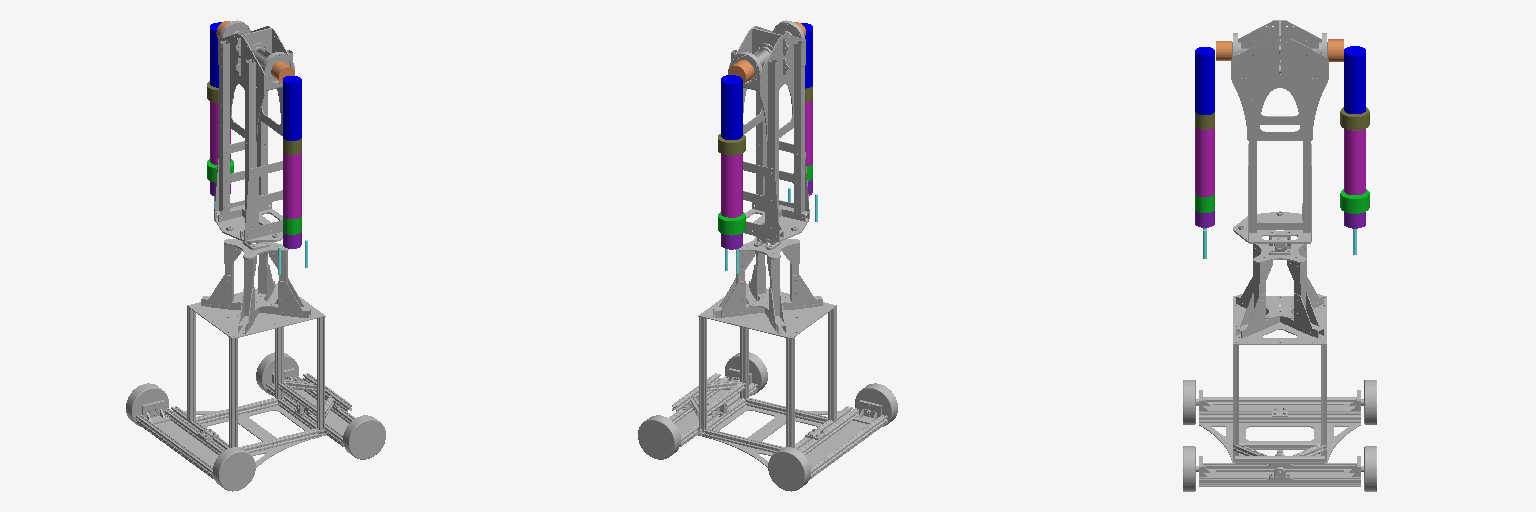
URDF robot description (neurobot):
<robot
  name="neurobot">
  <link 
    name="base_footprint">
    <visual>
    <origin rpy="0 0 0" xyz="0 0 0"/>
    <geometry>
       <box size="0.05 0.05 0.001"/>
    </geometry>
    <material name="TransparentGreen"/>
    </visual>
  </link>
  <link
    name="base_leg">
    <inertial>
      <origin
        xyz="0 0 0.0344645056443236"
        rpy="0 0 0" />
      <mass
        value="4.96180110119092" />
      <inertia
        ixx="0.260181029472697"
        ixy="-1.8355788022317E-06"
        ixz="-0.00155137956745712"
        iyy="0.263728282272559"
        iyz="1.00993985627843E-07"
        izz="0.488283544882969" />
    </inertial>
    <visual>
      <origin
        xyz="0 0 0"
        rpy="0 0 0" />
      <geometry>
        <mesh
          filename="package://neuro_model/meshes/base_leg.stl" />
      </geometry>
      <material
        name="">
        <color
          rgba="0.752941176470588 0.752941176470588 0.752941176470588 1" />
      </material>
    </visual>
    <collision>
      <origin
        xyz="0 0 0"
        rpy="0 0 0" />
      <geometry>
        <mesh
          filename="package://neuro_model/meshes/base_leg.stl" />
      </geometry>
    </collision>
  </link>

  <joint name="joint_footprint" type="fixed">
    <origin rpy="0 0 0" xyz="0 0 0"/>
    <parent link="base_footprint"/>
    <child link="base_leg"/>
  </joint>


  <link
    name="base_link">
    <inertial>
      <origin
        xyz="0 0 0.497022585106364"
        rpy="0 0 0" />
      <mass
        value="2.64772097817827" />
      <inertia
        ixx="0.355578054616091"
        ixy="0.00054044346883383"
        ixz="0.00826972267071127"
        iyy="0.354512666156879"
        iyz="-0.00128012471195156"
        izz="0.0346040156500564" />
    </inertial>
    <visual>
      <origin
        xyz="0 0 0"
        rpy="0 0 0" />
      <geometry>
        <mesh
          filename="package://neuro_model/meshes/base_link.stl" />
      </geometry>
      <material
        name="">
        <color
          rgba="0.752941176470588 0.752941176470588 0.752941176470588 1" />
      </material>
    </visual>
    <collision>
      <origin
        xyz="0 0 0"
        rpy="0 0 0" />
      <geometry>
        <mesh
          filename="package://neuro_model/meshes/base_link.stl" />
      </geometry>
    </collision>
  </link>
  <joint
    name="base_link_joint"
    type="fixed">
    <origin
      xyz="0 0 0.423"
      rpy="0 0 0" />
    <parent
      link="base_leg" />
    <child
      link="base_link" />
    <axis
      xyz="0 0 0" />
  </joint>

  <link
    name="left_arm_link0">
  </link>
  <joint
    name="left_arm_joint0"
    type="fixed">
    <origin
      xyz="0 0.146 0.917"
      rpy="-1.5708 0 0" />
    <parent
      link="base_link" />
    <child
      link="left_arm_link0" />
    <axis
      xyz="0 0 0" />
  </joint>
  <link
    name="left_arm_link1">
    <inertial>
      <origin
        xyz="0 0 0.025"
        rpy="0 0 0" />
      <mass
        value="0.139895412046326" />
      <inertia
        ixx="0.000291527799787079"
        ixy="7.02048677679412E-07"
        ixz="-1.54733263205051E-05"
        iyy="0.000240969210302021"
        iyz="-2.14818780078269E-07"
        izz="0.000151629908718559" />
    </inertial>
    <visual>
      <origin
        xyz="0 0 0.025"
        rpy="0 0 0" />
      <geometry>
        <cylinder length="0.05" radius="0.035"/>
      </geometry>
      <material
        name="">
        <color
          rgba="0.9 0.6 0.4 1" />
      </material>
    </visual>
    <collision>
      <origin
        xyz="0 0 0.025"
        rpy="0 0 0" />
      <geometry>
        <cylinder length="0.05" radius="0.035"/>
      </geometry>
    </collision>
  </link>
  <joint
    name="left_arm_joint1"
    type="revolute">
    <origin
      xyz="0 0 0.001"
      rpy="0 0 0" />
    <parent
      link="left_arm_link0" />
    <child
      link="left_arm_link1" />
    <axis
      xyz="0 0 -1" />
    <limit
      lower="-1.57"
      upper="1.57"
      effort="2"
      velocity="1" />
  </joint>
  <link
    name="left_arm_link2">
    <inertial>
      <origin
        xyz="0.10 0 0"
        rpy="0 0 0" />
      <mass
        value="0.222706771538381" />
      <inertia
        ixx="0.000221293565894878"
        ixy="9.64715999128791E-08"
        ixz="1.17177262431235E-05"
        iyy="0.00108680182339941"
        iyz="7.3745697887011E-10"
        izz="0.00105620684573982" />
    </inertial>
    <visual>
      <origin
        xyz="0.10 0 0"
        rpy="0 1.5708 0" />
      <geometry>
        <cylinder length="0.20" radius="0.035"/>
      </geometry>
      <material
        name="">
        <color
          rgba="0 0 1 1" />
      </material>
    </visual>
    <collision>
      <origin
        xyz="0.10 0 0"
        rpy="0 1.5708 0" />
      <geometry>
        <cylinder length="0.20" radius="0.035"/>
      </geometry>
    </collision>
  </link>
  <joint
    name="left_arm_joint2"
    type="revolute">
    <origin
      xyz="0 0 0.084"
      rpy="1.5708 0 1.5708" />
    <parent
      link="left_arm_link1" />
    <child
      link="left_arm_link2" />
    <axis
      xyz="0 0 1" />
    <limit
      lower="0"
      upper="1.57"
      effort="2"
      velocity="1" />
  </joint>
  <link
    name="left_arm_link3">
    <inertial>
      <origin
        xyz="0 0 0.0225"
        rpy="0 0 0" />
      <mass
        value="0.078971511055653" />
      <inertia
        ixx="7.19666232277633E-05"
        ixy="-2.29834747206398E-21"
        ixz="-1.68863370887188E-05"
        iyy="0.000116283270534729"
        iyz="5.15631306641055E-20"
        izz="0.000104168336512131" />
    </inertial>
    <visual>
      <origin
        xyz="0 0 0.0225"
        rpy="0 0 0" />
      <geometry>
        <cylinder length="0.045" radius="0.045"/>
      </geometry>
      <material
        name="">
        <color
          rgba="0.5 0.5 0.3 1" />
      </material>
    </visual>
    <collision>
      <origin
        xyz="0 0 0.0225"
        rpy="0 1 0" />
      <geometry>
        <cylinder length="0.045" radius="0.045"/>
      </geometry>
    </collision>
  </link>
  <joint
    name="left_arm_joint3"
    type="revolute">
    <origin
      xyz="0.205 0 0"
      rpy="-1.5708 0 -1.5708" />
    <parent
      link="left_arm_link2" />
    <child
      link="left_arm_link3" />
    <axis
      xyz="0 0 -1" />
    <limit
      lower="-2.2"
      upper="2.2"
      effort="2"
      velocity="1" />
  </joint>
  <link
    name="left_arm_link4">
    <inertial>
      <origin
        xyz="0.11 0 0"
        rpy="0 1.5708 0"/>
      <mass
        value="0.163592437075005" />
      <inertia
        ixx="9.18715474899927E-05"
        ixy="1.14360963815123E-05"
        ixz="-1.44049786151869E-05"
        iyy="0.000940484151135754"
        iyz="1.90547978307357E-07"
        izz="0.000935522761640683" />
    </inertial>
    <visual>
      <origin
        xyz="0.11 0 0"
        rpy="0 1.5708 0"/>
      <geometry>
        <cylinder length="0.22" radius="0.035"/>
      </geometry>
      <material
        name="">
        <color
          rgba="0.8 0.2 0.8 1" />
      </material>
    </visual>
    <collision>
      <origin
        xyz="0.11 0 0 "
        rpy="0 1.5708 0" />
      <geometry>
        <cylinder length="0.22" radius="0.035"/>
      </geometry>
    </collision>
  </link>
  <joint
    name="left_arm_joint4"
    type="revolute">
    <origin
      xyz="0 0 0.05"
      rpy="1.5708 -1.5708 1.5708"/>
    <parent
      link="left_arm_link3" />
    <child
      link="left_arm_link4" />
    <axis
      xyz="0 0 1" />
    <limit
      lower="-1.57"
      upper="1.6"
      effort="2"
      velocity="1" />
  </joint>
  <link
    name="left_arm_link5">
    <inertial>
      <origin
        xyz="0 0 0.025"
        rpy="0 0 0"/>
      <mass
        value="0.0975990294014391" />
      <inertia
        ixx="9.17613388444776E-05"
        ixy="1.93938108659678E-06"
        ixz="-2.18069280623664E-05"
        iyy="0.000145599253848535"
        iyz="3.27545465049375E-06"
        izz="0.000109308596470807" />
    </inertial>
    <visual>
      <origin
        xyz="0 0 0.025"
        rpy="0 0 0"/>
      <geometry>
        <cylinder length="0.05" radius="0.045"/>
      </geometry>
      <material
        name="">
        <color
          rgba="0.1 0.8 0.2 1" />
      </material>
    </visual>
    <collision>
      <origin
        xyz="0 0 0.025"
        rpy="0 0 0" />
      <geometry>
        <cylinder length="0.05" radius="0.045"/>
      </geometry>
    </collision>
  </link>
  <joint
    name="left_arm_joint5"
    type="revolute">
    <origin
      xyz="0.228 0 0"
      rpy="3.14 -1.5708 0"/>
    <parent
      link="left_arm_link4" />
    <child
      link="left_arm_link5" />
    <axis
      xyz="0 0 -1" />
    <limit
      lower="-2.2"
      upper="2.2"
      effort="2"
      velocity="1" />
  </joint>
  <link
    name="left_arm_link6">
    <inertial>
      <origin
        xyz="0.025 0 0"
        rpy="0 0 0" />
      <mass
        value="0.0342933650278285" />
      <inertia
        ixx="2.81251487192025E-05"
        ixy="-9.52330011495129E-08"
        ixz="8.00630003676371E-09"
        iyy="2.12668689963334E-05"
        iyz="5.76691167452361E-07"
        izz="2.57654425067355E-05" />
    </inertial>
    <visual>
      <origin
        xyz="0.025 0 0"
        rpy="0 1.5708 0" />
      <geometry>
        <cylinder length="0.05" radius="0.035"/>
      </geometry>
      <material
        name="">
        <color
          rgba="0.6 0.2 0.8 1" />
      </material>
    </visual>
    <collision>
      <origin
        xyz="0.025 0 0"
        rpy="0 1.5708 0" />
      <geometry>
        <cylinder length="0.05" radius="0.035"/>
      </geometry>
    </collision>
  </link>
  <joint
    name="left_arm_joint6"
    type="revolute">
    <origin
      xyz="0 0 0.055"
      rpy="1.5708 -1.5708 0" />
    <parent
      link="left_arm_link5" />
    <child
      link="left_arm_link6" />
    <axis
      xyz="0 0 -1" />
    <limit
      lower="-1.57"
      upper="1.57"
      effort="2"
      velocity="1" />
  </joint>
  <link
    name="left_gripper_frame">
  </link>
  <joint
    name="left_arm_joint7"
    type="fixed">
    <origin
      xyz="0.13 0 0"
      rpy="1.57 0 0" />
    <parent
      link="left_arm_link6" />
    <child
      link="left_gripper_frame" />
  </joint>
  <link
    name="left_finger_l">
    <inertial>
      <origin
        xyz="0 0 0.0475"
        rpy="0 0 1.5708" />
      <mass
        value="0.0004954649646829" />
      <inertia
        ixx="1.28718097526934E-07"
        ixy="-4.95287937680829E-22"
        ixz="4.25264237478257E-23"
        iyy="1.27301609789733E-07"
        iyz="6.66607407315439E-23"
        izz="4.01590299797697E-09" />
    </inertial>
    <visual>
      <origin
        xyz="0 0 0.0475"
        rpy="0 0 1.5708" />
      <geometry>
        <cylinder length="0.095" radius="0.005" />
      </geometry>
      <material
        name="">
        <color
          rgba="0.5 1 1 1" />
      </material>
    </visual>
    <collision>
      <origin
        xyz="0 0 0.0475"
        rpy="0 0 1.5708" />
      <geometry>
        <cylinder length="0.0095" radius="0.005" />
      </geometry>
    </collision>
  </link>
  <joint
    name="left_joint_gripper_l"
    type="fixed">
    <origin
      xyz="0.05 0 -0.02"
      rpy="0 1.5708 0" />
    <parent
      link="left_arm_link6" />
    <child
      link="left_finger_l" />
    <axis
      xyz="0 0 0" />
  </joint>
  <link
    name="left_finger_r">
    <inertial>
      <origin
        xyz="0 0 0.0475"
        rpy="0 0 1.57" />
      <mass
        value="0.0004954649646829" />
      <inertia
        ixx="1.28718097526934E-07"
        ixy="-4.95287937680829E-22"
        ixz="4.25264237478257E-23"
        iyy="1.27301609789733E-07"
        iyz="6.66607407315439E-23"
        izz="4.01590299797697E-09" />
    </inertial>
    <visual>
      <origin
        xyz="0 0 0.0475"
        rpy="0 0 1.57" />
      <geometry>
        <cylinder length="0.095" radius="0.005" />
      </geometry>
      <material
        name="">
        <color
          rgba="0.5 1 1 1" />
      </material>
    </visual>
    <collision>
      <origin
        xyz="0 0 0.0475"
        rpy="0 0 1.57" />
      <geometry>
        <cylinder length="0.0095" radius="0.005" />
      </geometry>
    </collision>
  </link>
  <joint
    name="left_joint_gripper_r"
    type="revolute">
    <origin
      xyz="0.05 0 0.02"
      rpy="0 1.57 0" />
    <parent
      link="left_arm_link6" />
    <child
      link="left_finger_r" />
    <axis
      xyz="0 -1 0" />
    <limit
      effort="1" 
      lower="0" 
      upper="1.57" 
      velocity="1.0"/>
  </joint>
  <link
    name="right_arm_link0">
  </link>
  <joint
    name="right_arm_joint0"
    type="fixed">
    <origin
      xyz="0 -0.146 0.917"
      rpy="1.5708 0 0" />
    <parent
      link="base_link" />
    <child
      link="right_arm_link0" />
    <axis
      xyz="0 0 0" />
  </joint>

  <link
    name="right_arm_link1">
    <inertial>
      <origin
        xyz="0 0 0.025"
        rpy="0 0 0" />
      <mass
        value="0.139895412046325" />
      <inertia
        ixx="0.000291537528341602"
        ixy="-3.02611226515367E-08"
        ixz="-1.54748146614687E-05"
        iyy="0.000240959481748641"
        iyz="9.25866316314585E-09"
        izz="0.000151629908718559" />
    </inertial>
    <visual>
      <origin
        xyz="0 0 0.025"
        rpy="0 0 0" />
      <geometry>
        <cylinder length="0.05" radius="0.03"/>
      </geometry>
      <material
        name="">
        <color
          rgba="0.9 0.6 0.4 1" />
      </material>
    </visual>
    <collision>
      <origin
        xyz="0 0 0.025"
        rpy="0 0 0" />
      <geometry>
        <cylinder length="0.05" radius="0.03"/>
      </geometry>
    </collision>
  </link>
  <joint
    name="right_arm_joint1"
    type="revolute">
    <origin
      xyz="0 0 0.001"
      rpy="0 0 0" />
    <parent
      link="right_arm_link0" />
    <child
      link="right_arm_link1" />
    <axis
      xyz="0 0 1" />
    <limit
      lower="-1.57"
      upper="1.57"
      effort="2"
      velocity="1" />
  </joint>
  <link
    name="right_arm_link2">
    <inertial>
      <origin
        xyz="0.1025 0 0"
        rpy="0 1.5708 0" />
      <mass
        value="0.222706771537626" />
      <inertia
        ixx="0.000221129610017924"
        ixy="9.6453292163997E-08"
        ixz="6.23932395302156E-07"
        iyy="0.00108680182343279"
        iyz="2.01887974864766E-09"
        izz="0.00105637080165108" />
    </inertial>
    <visual>
      <origin
        xyz="0.1025 0 0"
        rpy="0 1.5708 0" />
      <geometry>
        <cylinder length="0.205" radius="0.03"/>
      </geometry>
      <material
        name="">
        <color
          rgba="0 0 1 1" />
      </material>
    </visual>
    <collision>
      <origin
        xyz="0.1025 0 0"
        rpy="0 1.5708 0" />
      <geometry>
        <cylinder length="0.205" radius="0.03"/>
      </geometry>
    </collision>
  </link>
  <joint
    name="right_arm_joint2"
    type="revolute">
    <origin
      xyz="0 0 0.084"
      rpy="-1.5708 0 -1.5708" />
    <parent
      link="right_arm_link1" />
    <child
      link="right_arm_link2" />
    <axis
      xyz="0 0 -1" />
    <limit
      lower="0"
      upper="1.57"
      effort="2"
      velocity="1" />
  </joint>
  <link
    name="right_arm_link3">
    <inertial>
      <origin
        xyz="0 0 0.025"
        rpy="0 0 0" />
      <mass
        value="0.0789715110556525" />
      <inertia
        ixx="7.1966623227763E-05"
        ixy="9.12970822603372E-19"
        ixz="-1.68863370887186E-05"
        iyy="0.000116283270534728"
        iyz="2.77416525115584E-19"
        izz="0.000104168336512131" />
    </inertial>
    <visual>
      <origin
        xyz="0 0 0.025"
        rpy="0 0 0" />
      <geometry>
        <cylinder length="0.05" radius="0.03"/>
      </geometry>
      <material
        name="">
        <color
          rgba="0.5 0.5 0.3 1" />
      </material>
    </visual>
    <collision>
      <origin
        xyz="0 0 0.025"
        rpy="0 1 0" />
      <geometry>
        <cylinder length="0.05" radius="0.03"/>
      </geometry>
    </collision>
  </link>
  <joint
    name="right_arm_joint3"
    type="revolute">
    <origin
      xyz="0.205 0 0"
      rpy="1.5708 0 1.5708" />
    <parent
      link="right_arm_link2" />
    <child
      link="right_arm_link3" />
    <axis
      xyz="0 0 1" />
    <limit
      lower="-2.2"
      upper="2.2"
      effort="2"
      velocity="1" />
  </joint>
  <link
    name="right_arm_link4">
    <inertial>
      <origin
        xyz="0.114 0 0"
        rpy="0 1.5708 0" />
      <mass
        value="0.163592437071327" />
      <inertia
        ixx="9.1718321663276E-05"
        ixy="-8.5538514906755E-07"
        ixz="-1.44062275602948E-05"
        iyy="0.000940637376901673"
        iyz="-1.80574628596523E-08"
        izz="0.000935522761578219" />
    </inertial>
    <visual>
      <origin
        xyz="0.114 0 0 "
        rpy="0 1.5708 0" />
      <geometry>
        <cylinder length="0.228" radius="0.03"/>
      </geometry>
      <material
        name="">
        <color
          rgba="0.8 0.2 0.8 1" />
      </material>
    </visual>
    <collision>
      <origin
        xyz="0.114 0 0 "
        rpy="0 1.5708 0" />
      <geometry>
        <cylinder length="0.228" radius="0.03"/>
      </geometry>
    </collision>
  </link>
  <joint
    name="right_arm_joint4"
    type="revolute">
    <origin
      xyz="0 0 0.05"
      rpy="1.5708 -1.5708 1.5708" />
    <parent
      link="right_arm_link3" />
    <child
      link="right_arm_link4" />
    <axis
      xyz="0 0 -1" />
    <limit
      lower="-1.57"
      upper="1.57"
      effort="2"
      velocity="1" />
  </joint>
  <link
    name="right_arm_link5">
    <inertial>
      <origin
        xyz="0 0 -0.0275"
        rpy="0 0 0" />
      <mass
        value="0.0975990294014401" />
      <inertia
        ixx="9.17613388444844E-05"
        ixy="-2.60974087719177E-08"
        ixz="-2.18929812826313E-05"
        iyy="0.000145892500744109"
        iyz="-2.2063801782706E-08"
        izz="0.000109015349575228" />
    </inertial>
    <visual>
      <origin
        xyz="0 0 -0.0275 "
        rpy="0 0 0" />
      <geometry>
        <cylinder length="0.055" radius="0.03"/>
      </geometry>
      <material
        name="">
        <color
          rgba="0.1 0.8 0.2 1" />
      </material>
    </visual>
    <collision>
      <origin
        xyz="0 0 -0.0275"
        rpy="0 0 0" />
      <geometry>
        <cylinder length="0.055" radius="0.03"/>
      </geometry>
    </collision>
  </link>
  <joint
    name="right_arm_joint5"
    type="revolute">
    <origin
      xyz="0.228 0 0"
      rpy="3.14 1.5708 0" />
    <parent
      link="right_arm_link4" />
    <child
      link="right_arm_link5" />
    <axis
      xyz="0 0 -1" />
    <limit
      lower="-2.2"
      upper="2.2"
      effort="2"
      velocity="1" />
  </joint>
  <link
    name="right_arm_link6">
    <inertial>
      <origin
        xyz="0.025 0 0"
        rpy="0 1.5708 0" />
      <mass
        value="0.0342933650278285" />
      <inertia
        ixx="2.81264683989044E-05"
        ixy="-4.10492551289922E-09"
        ixz="-3.45070552990902E-10"
        iyy="2.12655493166313E-05"
        iyz="-5.76746637947283E-07"
        izz="2.57654425067357E-05" />
    </inertial>
    <visual>
      <origin
        xyz="0.025 0 0"
        rpy="0 1.5708 0" />
      <geometry>
        <cylinder length="0.05" radius="0.03"/>
      </geometry>
      <material
        name="">
        <color
          rgba="0.6 0.2 0.8 1" />
      </material>
    </visual>
    <collision>
      <origin
        xyz="0.025 0 0"
        rpy="0 1.5708 0" />
      <geometry>
        <cylinder length="0.05" radius="0.03"/>
      </geometry>
    </collision>
  </link>
  <joint
    name="right_arm_joint6"
    type="revolute">
    <origin
      xyz="0 0 -0.055"
      rpy="-1.5708 1.5708 0" />
    <parent
      link="right_arm_link5" />
    <child
      link="right_arm_link6" />
    <axis
      xyz="0 0 1" />
    <limit
      lower="-1.57"
      upper="1.57"
      effort="2"
      velocity="1" />
  </joint>
  <link
    name="right_gripper_frame">
  </link>
  <joint
    name="right_arm_joint7"
    type="fixed">
    <origin
      xyz="0.09 0 0"
      rpy="0 0 0" />
    <parent
      link="right_arm_link6" />
    <child
      link="right_gripper_frame" />
  </joint>
  <link
    name="right_finger_l">
    <inertial>
      <origin
        xyz="0.0475 0 0"
        rpy="0 0 1.5708" />
      <mass
        value="0.0004954649646829" />
      <inertia
        ixx="1.28718097526934E-07"
        ixy="-4.95287937680829E-22"
        ixz="4.25264237478257E-23"
        iyy="1.27301609789733E-07"
        iyz="6.66607407315439E-23"
        izz="4.01590299797697E-09" />
    </inertial>
    <visual>
      <origin
        xyz="0.0475 0 0"
        rpy="0 0 1.5708" />
      <geometry>
        <cylinder length="0.095" radius="0.005" />
      </geometry>
      <material
        name="">
        <color
          rgba="0.5 1 1 1" />
      </material>
    </visual>
    <collision>
      <origin
        xyz="0.0475 0 0"
        rpy="0 0 1.5708" />
      <geometry>
        <cylinder length="0.095" radius="0.005" />
      </geometry>
    </collision>
  </link>
  <joint
    name="right_joint_gripper_l"
    type="prismatic">
    <origin
      xyz="0.095 0 -0.075"
      rpy="0 1.5708 0" />
    <parent
      link="right_arm_link6" />
    <child
      link="right_finger_l" />
    <axis
      xyz="1 0 0" />
    <limit
      effort="1" 
      lower="-0.11" 
      upper="-0.04" 
      velocity="1.0"/>
  </joint>
  <link
    name="right_finger_r">
    <inertial>
      <origin
        xyz="0.0475 0 0"
        rpy="0 0 1.5708" />
      <mass
        value="0.0004954649646829" />
      <inertia
        ixx="1.28718097526934E-07"
        ixy="-4.95287937680829E-22"
        ixz="4.25264237478257E-23"
        iyy="1.27301609789733E-07"
        iyz="6.66607407315439E-23"
        izz="4.01590299797697E-09" />
    </inertial>
    <visual>
      <origin
        xyz="0.0475 0 0"
        rpy="0 0 1.5708" />
      <geometry>
        <cylinder length="0.095" radius="0.005" />
      </geometry>
      <material
        name="">
        <color
          rgba="0.5 1 1 1" />
      </material>
    </visual>
    <collision>
      <origin
        xyz="0.0475 0 0"
        rpy="0 0 1.5708" />
      <geometry>
        <cylinder length="0.095" radius="0.005" />
      </geometry>
    </collision>
  </link>
  <joint
    name="right_joint_gripper_r"
    type="prismatic">
    <origin
      xyz="0.095 0 0.025"
      rpy="0 1.5708 0" />
    <parent
      link="right_arm_link6" />
    <child
      link="right_finger_r" />
    <axis
      xyz="1 0 0" />
    <limit
      effort="1" 
      lower="-0.11" 
      upper="-0.04" 
      velocity="1.0"/>
  </joint>
</robot>

--- Facts derived from the render (not from the file) ---
The picture shows the robot from 3 angles, left to right: view 1: azimuth 30°, elevation 25°; view 2: azimuth 150°, elevation 25°; view 3: azimuth 270°, elevation 25°; orthographic projection.
Robot: neurobot — 23 links, 22 joints (13 revolute, 2 prismatic, 7 fixed); root link base_footprint; default pose: all joints at 0 but 2 set to mid-range because 0 is outside their limits (right_joint_gripper_l = -0.075, right_joint_gripper_r = -0.075).
Visible links, largest first — view 1: base_link, base_leg, right_arm_link4, right_arm_link2, left_arm_link4, left_arm_link2; view 2: base_link, base_leg, left_arm_link2, left_arm_link4; view 3: base_link, base_leg, left_arm_link2, left_arm_link4, right_arm_link4, right_arm_link2, left_arm_link5.
Link boxes in pixels (x1,y1,x2,y2): base_link: (187, 20, 325, 338); base_leg: (126, 300, 385, 491); right_arm_link4: (283, 152, 301, 218); right_arm_link2: (283, 76, 301, 140); left_arm_link4: (210, 101, 230, 164); left_arm_link2: (210, 22, 221, 87); base_link: (698, 20, 836, 338); base_leg: (638, 300, 897, 491); left_arm_link2: (721, 75, 742, 139); left_arm_link4: (721, 154, 742, 217); base_link: (1231, 20, 1328, 344); base_leg: (1183, 345, 1376, 491); left_arm_link2: (1344, 46, 1365, 113); left_arm_link4: (1344, 129, 1365, 194); right_arm_link4: (1195, 127, 1214, 196); right_arm_link2: (1195, 47, 1214, 114); left_arm_link5: (1340, 189, 1369, 213).
Size in the robot's own frame: 0.624 by 0.6 by 1.45 metres.
Meshes: 2 distinct files referenced, 2 mesh visuals loaded (2 binary STL).
